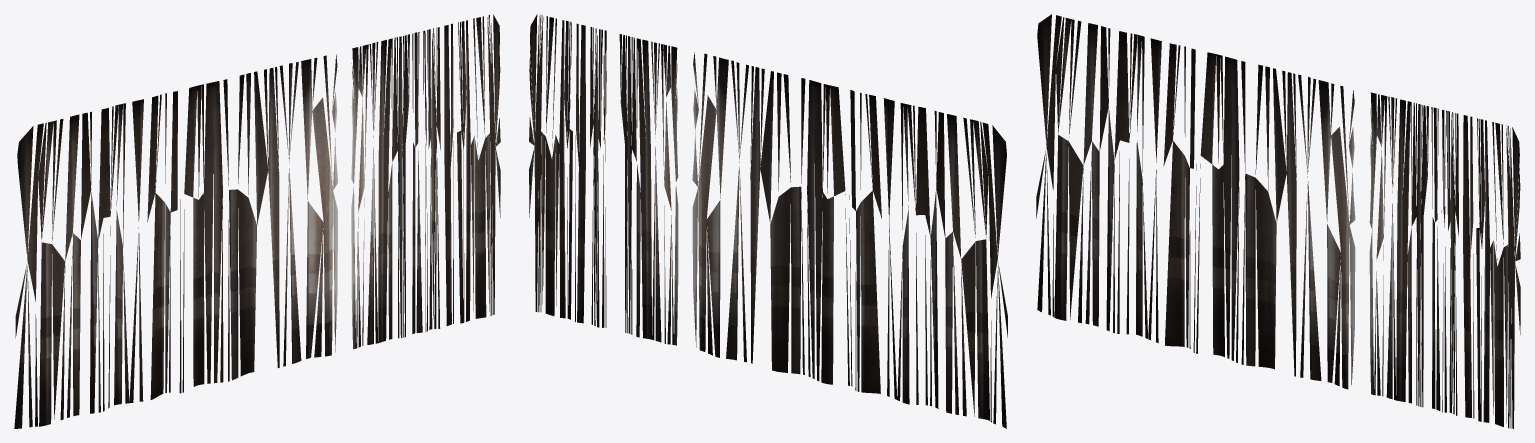
The model's file is Room5.obj.
The picture shows the model from 3 angles, left to right: view 1: azimuth 30°, elevation 25°; view 2: azimuth 150°, elevation 25°; view 3: azimuth 330°, elevation 25°; orthographic projection.
Visible parts, largest first — view 1: Room5; view 2: Room5; view 3: Room5.
Part boxes in pixels (bbox=[...]): Room5: bbox=[14, 14, 500, 428]; Room5: bbox=[529, 14, 1007, 428]; Room5: bbox=[1036, 14, 1520, 428].
Size of the model in its own units: 25.47 by 15.15 by 0.457.
